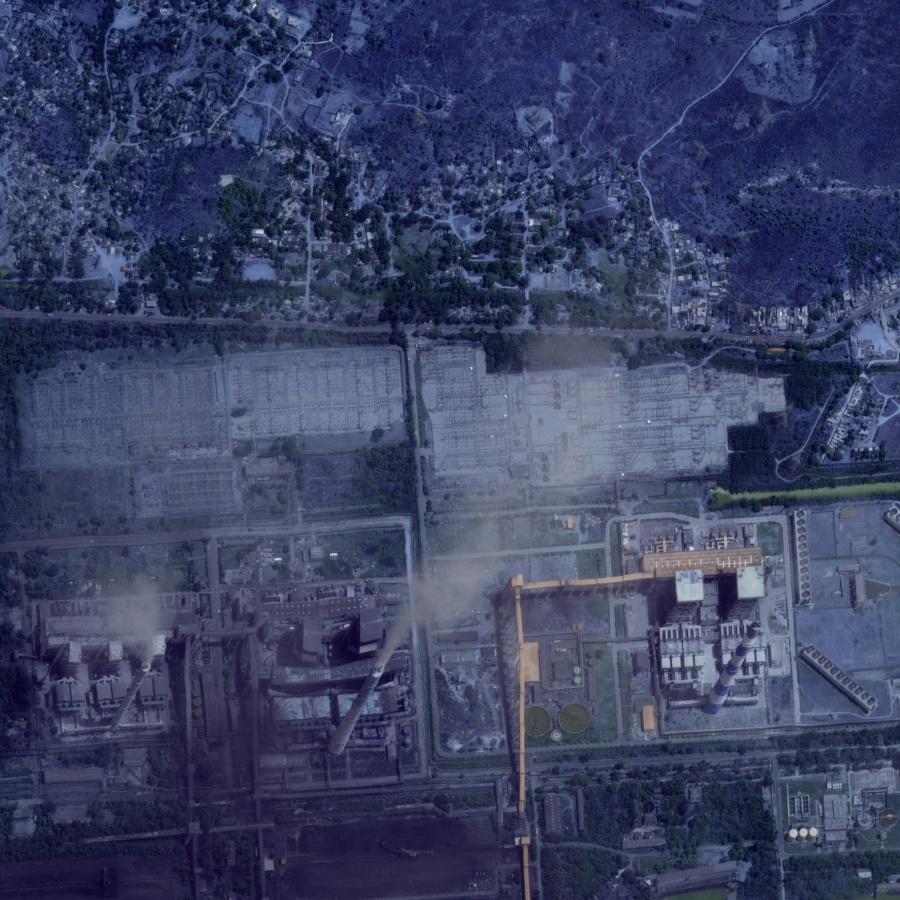PowerPlant: (652, 548, 776, 728)
